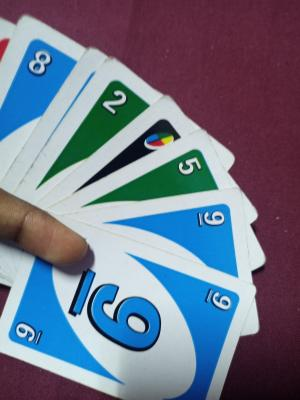blue: (34, 267, 227, 364), (126, 216, 237, 258)
num_2: (101, 84, 128, 119)
num_5: (172, 156, 203, 179)
num_8: (24, 46, 53, 79)
num_9: (194, 207, 232, 232)
